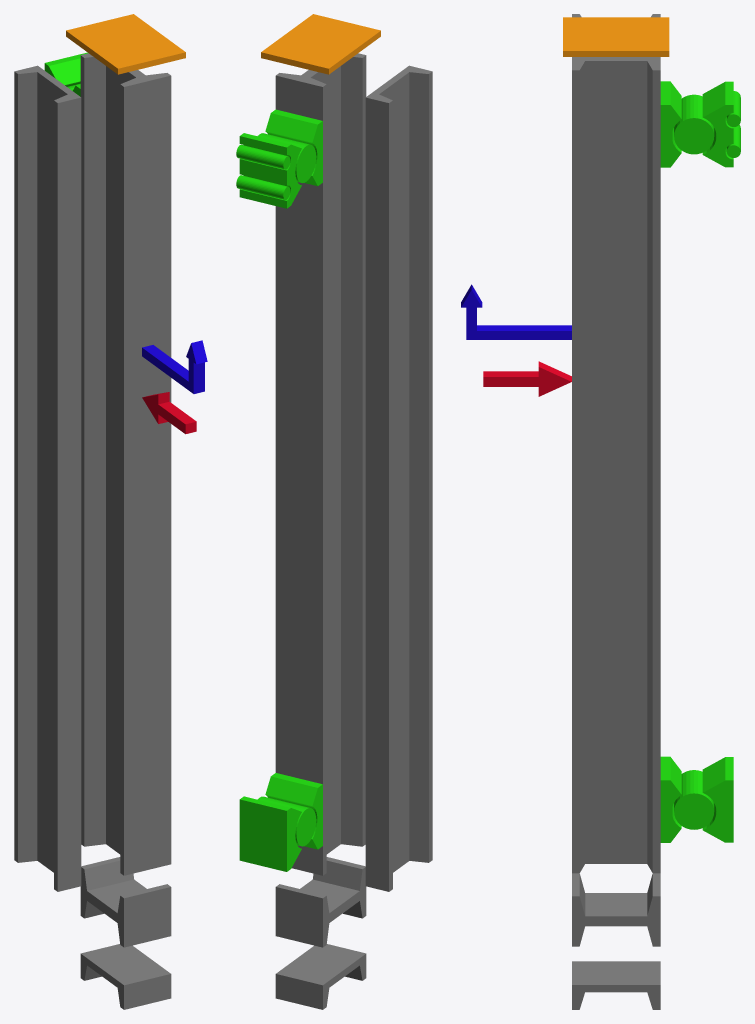
The model's file is VRScene2.fbx.
3 views of the same model, side by side, from view 1: azimuth 30°, elevation 25°; view 2: azimuth 150°, elevation 25°; view 3: azimuth 270°, elevation 25° (orthographic).
Parts seen in each view (by area): view 1: I-Beam, C-Beam, I-Beam Profile, Console, C-Beam Profile, Moment, Force, Joint 1; view 2: I-Beam, C-Beam, Joint 1, Joint 2, I-Beam Profile, Console, C-Beam Profile; view 3: I-Beam, Joint 1, Joint 2, Console, I-Beam Profile, C-Beam Profile, Moment, Force.
Boxes of the visible parts, left/top/right/bottom form: I-Beam: left=80, top=53, right=171, bottom=875; C-Beam: left=14, top=65, right=81, bottom=891; I-Beam Profile: left=80, top=857, right=171, bottom=947; Console: left=66, top=14, right=185, bottom=74; C-Beam Profile: left=80, top=944, right=171, bottom=1009; Moment: left=142, top=340, right=207, bottom=393; Force: left=142, top=392, right=196, bottom=434; Joint 1: left=44, top=52, right=88, bottom=96; I-Beam: left=275, top=53, right=366, bottom=875; C-Beam: left=365, top=65, right=432, bottom=891; Joint 1: left=236, top=109, right=322, bottom=208; Joint 2: left=239, top=773, right=322, bottom=871; I-Beam Profile: left=275, top=857, right=366, bottom=947; Console: left=261, top=14, right=380, bottom=74; C-Beam Profile: left=275, top=944, right=366, bottom=1009; I-Beam: left=572, top=57, right=660, bottom=873; Joint 1: left=660, top=81, right=740, bottom=167; Joint 2: left=660, top=756, right=733, bottom=842; Console: left=563, top=17, right=669, bottom=56; I-Beam Profile: left=572, top=873, right=660, bottom=946; C-Beam Profile: left=572, top=961, right=660, bottom=1009; Moment: left=461, top=284, right=571, bottom=339; Force: left=483, top=361, right=571, bottom=396.
Size of the model in its own units: 0.6568 by 4.8 by 1.26.
